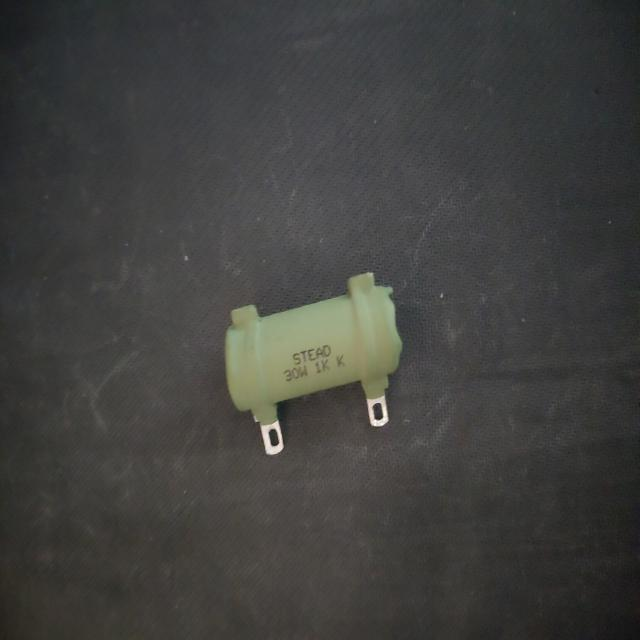resistor: (218, 266, 406, 458)
